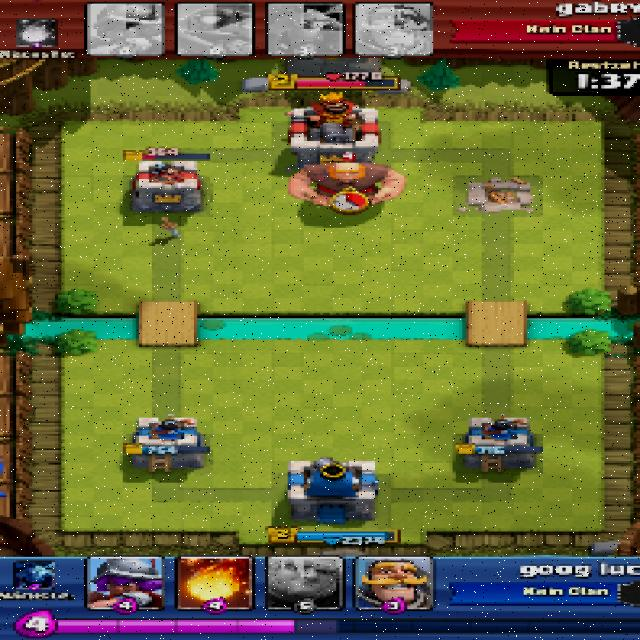Enemy-Giant: (288, 161, 404, 206)
